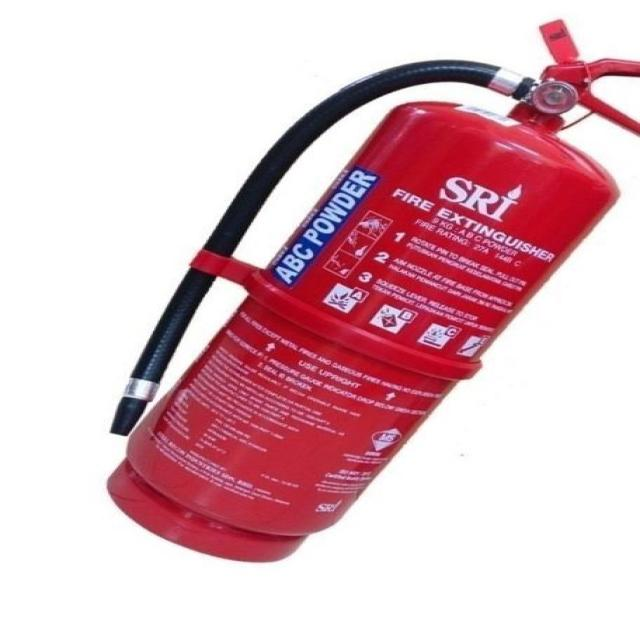fire_extinguisher: (87, 16, 639, 574)
